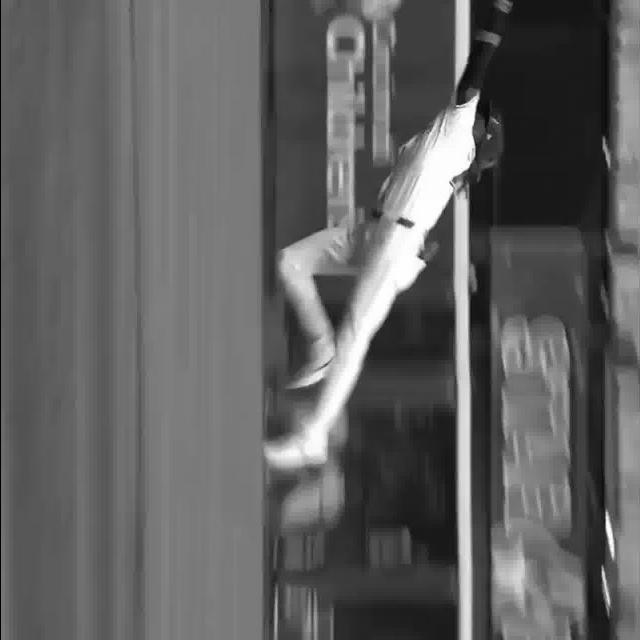shoe: (287, 328, 335, 393), (262, 435, 324, 475)
